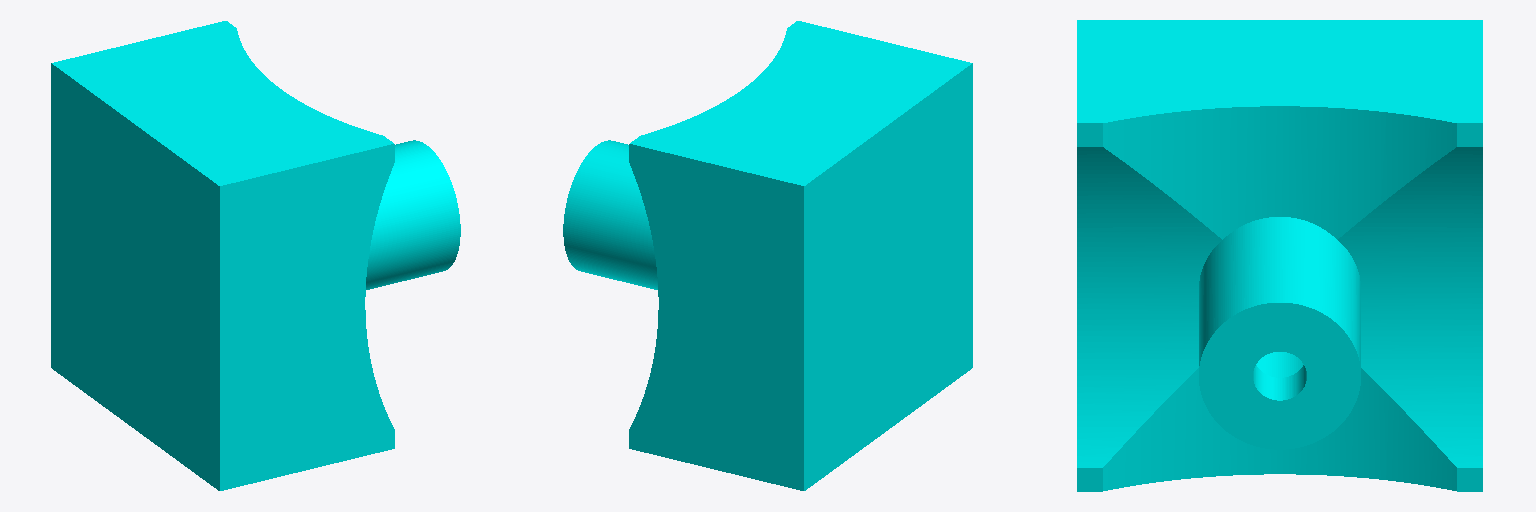
robot.urdf — centre06:
<robot name="centre06">
  <link name="centre06">
    <contact>
      <rolling_friction value="0.001"/>
      <spinning_friction value="0.001"/>
    </contact>
    <visual>
      <origin rpy="0 0 0" xyz="0 0 0"/>
      <geometry>
		<mesh filename="centre06.stl" scale="0.001 0.001 0.001"/>
      </geometry>
      <material name="cyan">
        <color rgba="0 1.0 1.0 1.0"/>
      </material>
    </visual>
    <collision>
      <origin rpy="0 0 0" xyz="0 0 0"/>
      <geometry>
	    <mesh filename="centre06.stl" scale="0.001 0.001 0.001"/>
      </geometry>
    </collision>
    </link>
</robot>

--- Render facts (derived) ---
The picture shows the robot from 3 angles, left to right: view 1: azimuth 30°, elevation 25°; view 2: azimuth 150°, elevation 25°; view 3: azimuth 270°, elevation 25°; orthographic projection.
Model centre06 with 1 links and 0 joints (none), rooted at centre06, posed all joints at 0.
Visible links, largest first — view 1: centre06; view 2: centre06; view 3: centre06.
Link boxes in pixels (left/top/right/bottom): centre06: left=51, top=21, right=460, bottom=490; centre06: left=563, top=21, right=972, bottom=490; centre06: left=1077, top=20, right=1482, bottom=491.
Bounding box of the posed robot: 0.019 × 0.019 × 0.019 m (x, y, z).
1 mesh visuals loaded from 1 distinct referenced files (1 binary STL).